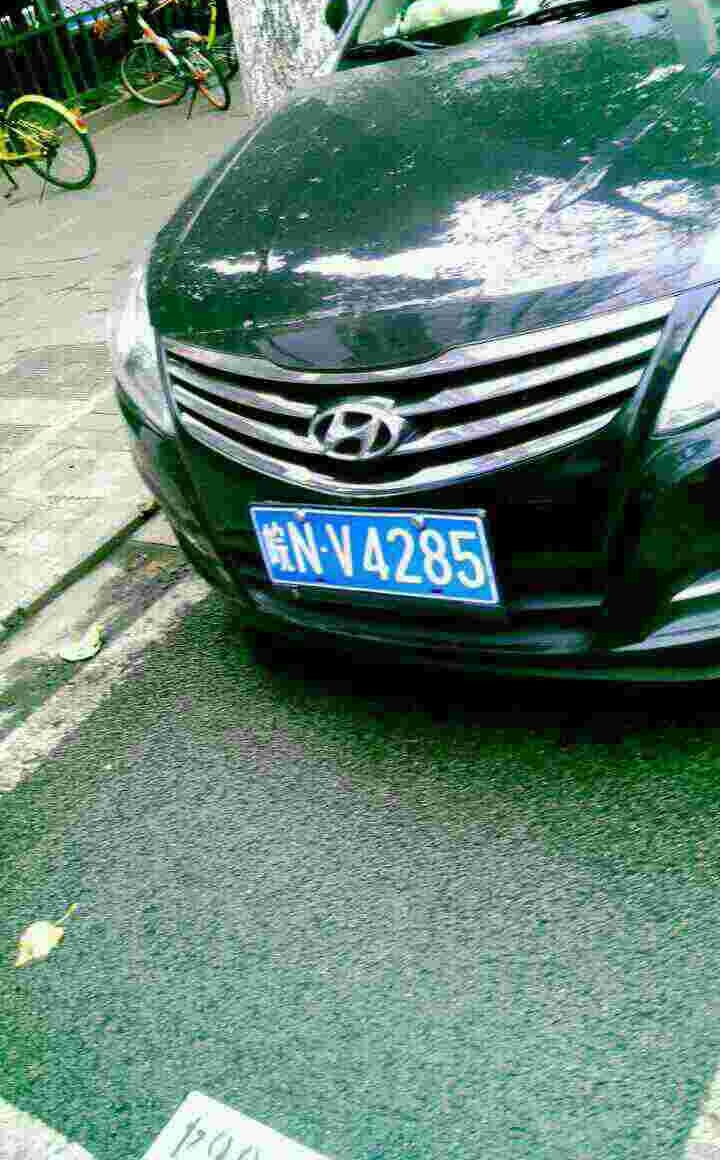license_plate: (255, 506, 501, 607)
